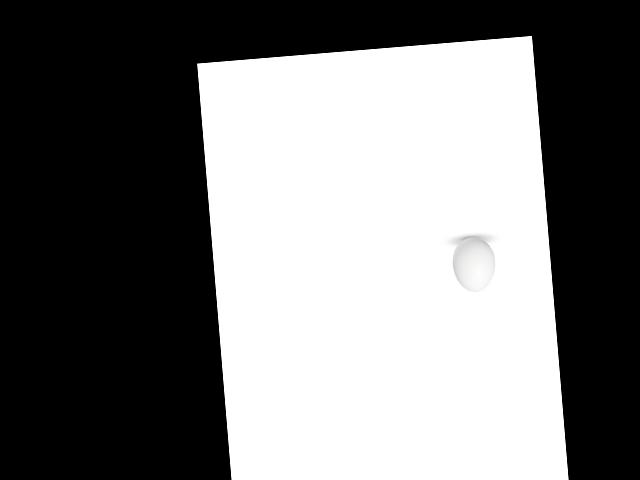egg: (451, 235, 497, 294)
